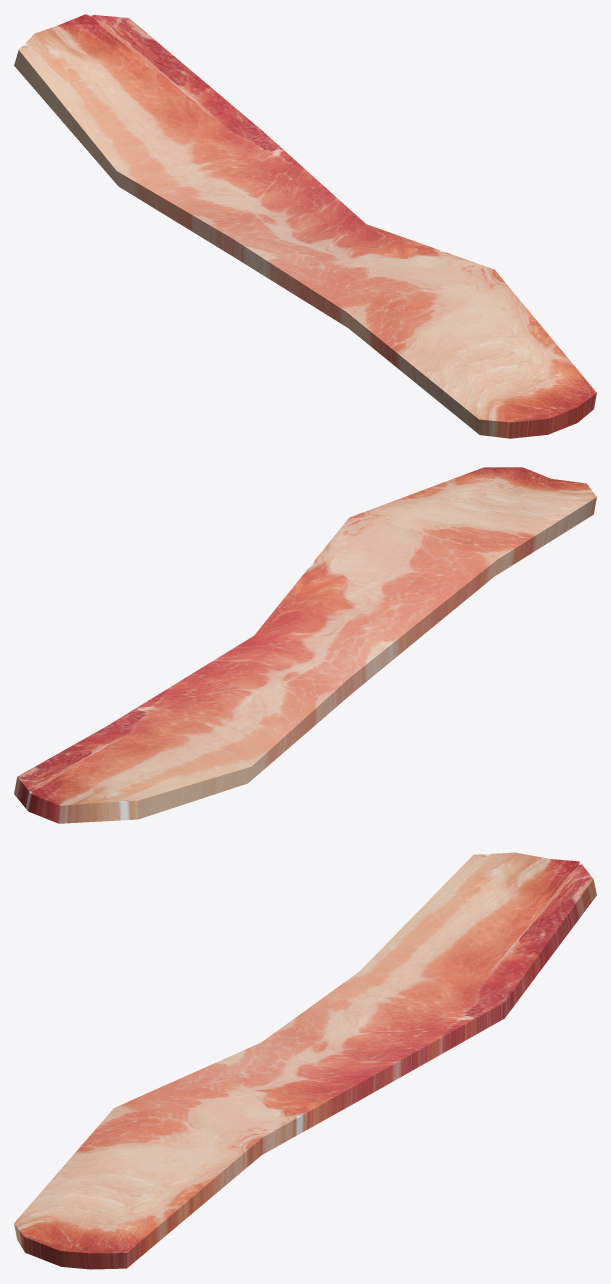
File: baconC.FBX
The picture shows the model from 3 angles, top to bottom: view 1: azimuth 30°, elevation 25°; view 2: azimuth 150°, elevation 25°; view 3: azimuth 330°, elevation 25°; orthographic projection.
Parts seen in each view (by area): view 1: baconC; view 2: baconC; view 3: baconC.
Part boxes in pixels (x1=…): baconC: x1=14, y1=14, x2=596, y2=438; baconC: x1=14, y1=467, x2=596, y2=823; baconC: x1=14, y1=852, x2=596, y2=1269.
Size of the model in its own units: 0.0467 by 0.0176 by 0.2595.
